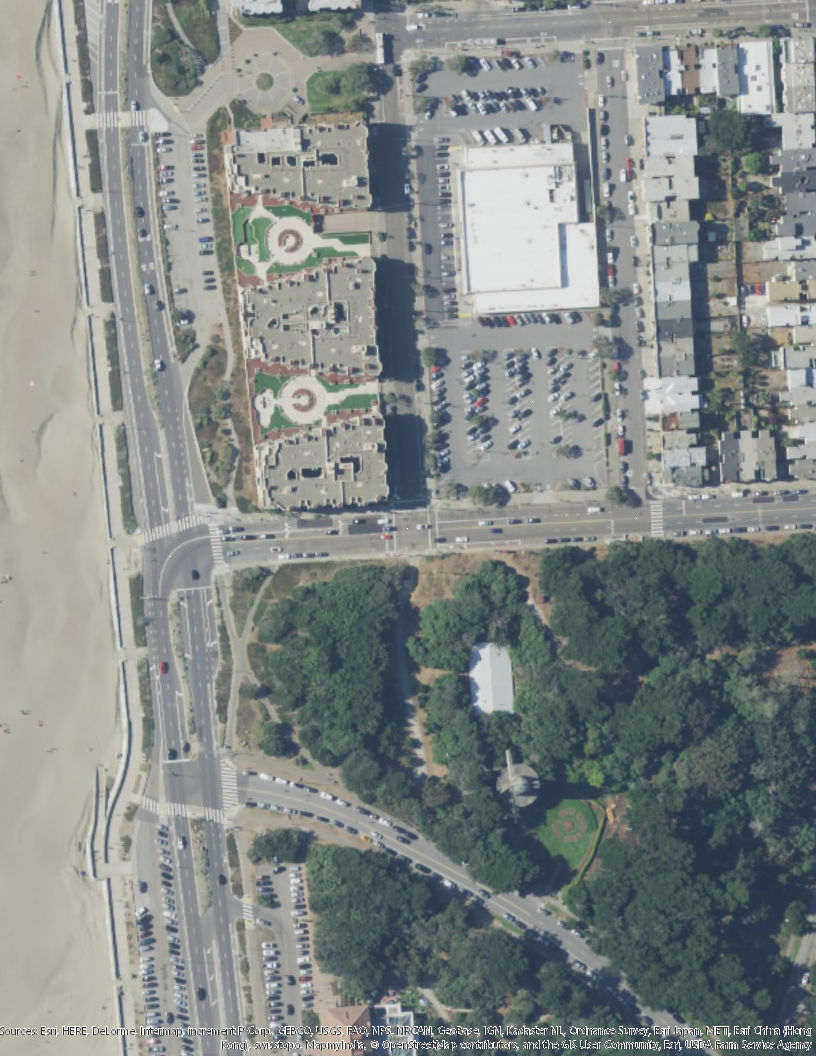zebracross: (143, 513, 200, 545), (220, 761, 239, 804), (207, 524, 225, 564), (648, 501, 664, 537), (96, 112, 117, 128), (205, 806, 223, 824), (141, 796, 158, 815), (169, 800, 186, 819), (130, 110, 147, 125), (241, 901, 254, 918)
